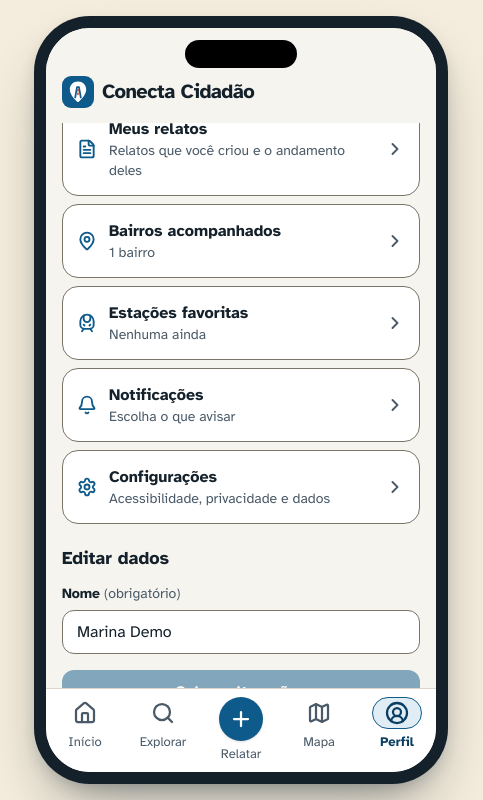
Test: Perfil: notificações › o perfil leva às notificações, que começam com o padrão
(page scrolled)
Click the link "Notificações Escolha o que avisar" at {"x": 156, "y": 395}, box [62, 368, 420, 442]
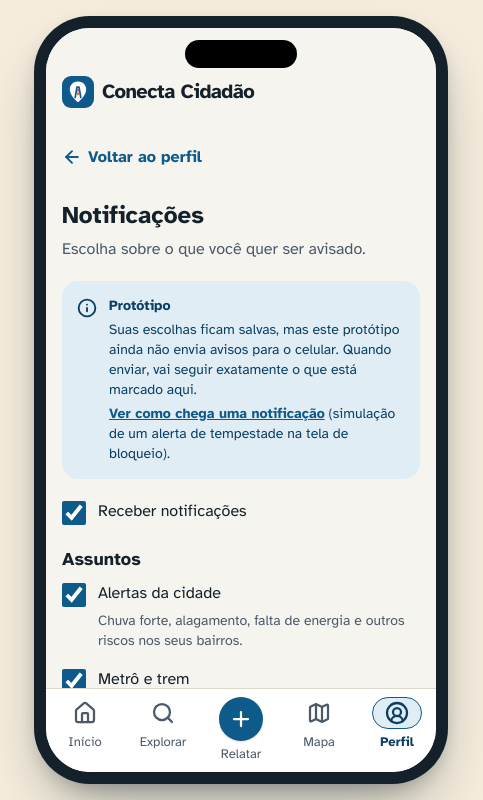
Check: the heading "Notificações" is shown, box [62, 200, 204, 230]
Check: the checkbox labelled "Receber notificações" is checked, box [62, 501, 86, 525]
Check: the checkbox labelled "Alertas da cidade" is checked, box [62, 583, 86, 607]
